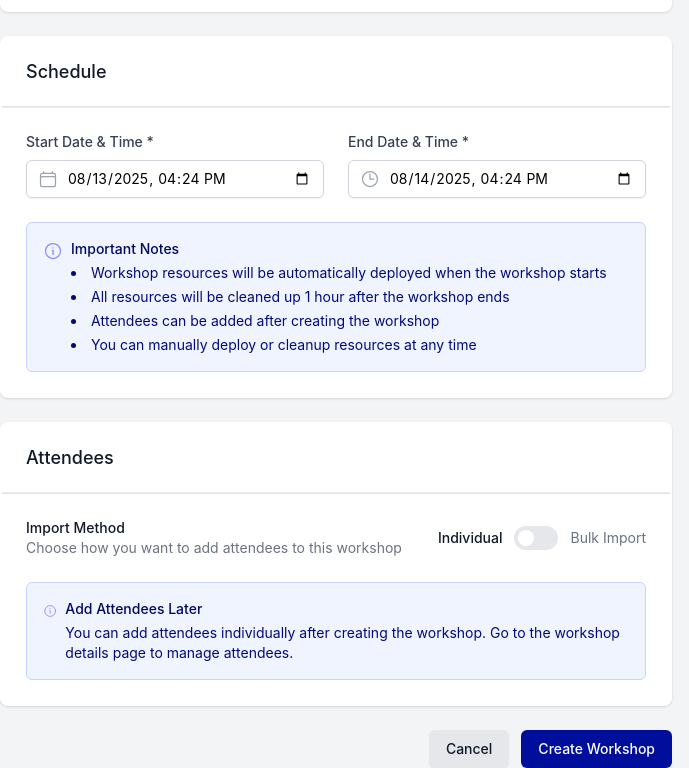
Test: CreateWorkshop - Bulk Import › should toggle to bulk import mode
(page scrolled)
Click the button with class "inline-flex" at {"x": 536, "y": 538}, box [514,526,558,550]
(page scrolled)
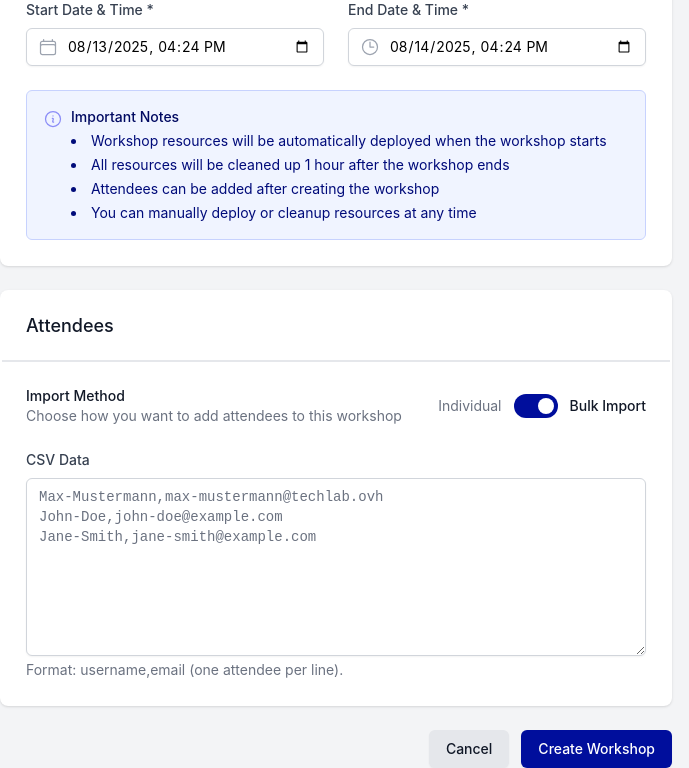
Check: the text box labelled "CSV Data" is shown, box [26,478,646,656]
